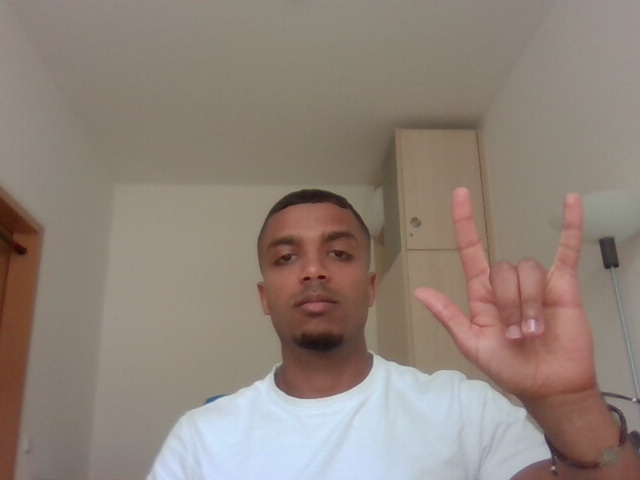absolutely: (406, 180, 608, 406)
